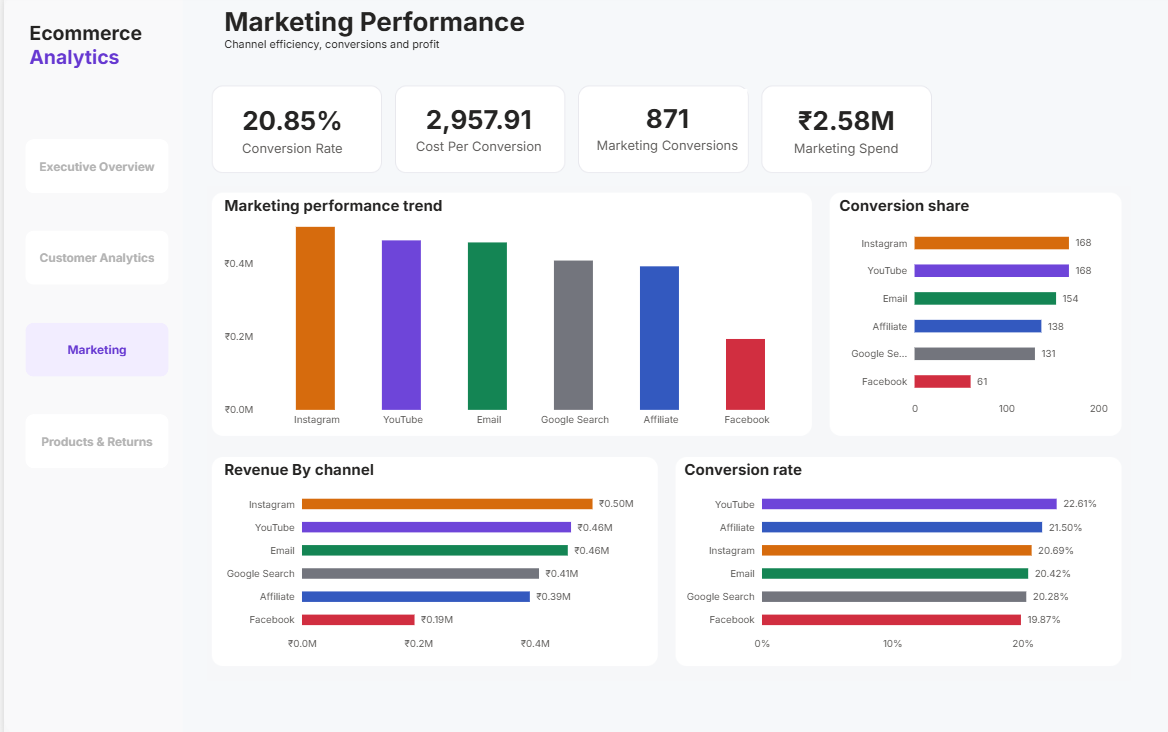

Layout of this report page (visuals, bound fields, positions):
{"tool":"powerbi","page":{"name":"Marketing ","canvas":[1440,920],"ordinal":2},"visuals":[{"type":"pageNavigator","box":[25.9,178.2,177.5,407.5],"z":0},{"type":"textbox","box":[25.9,30,177.5,109.6],"z":1000},{"type":"textbox","box":[266,9.3,566,106],"z":2000},{"type":"card","fields":{"Values":["marketing.Conversion Rate"]},"box":[266.7,120,178.3,91.7],"z":3000},{"type":"card","fields":{"Values":["marketing.Cost Per Conversion"]},"box":[496.7,118.3,178.3,91.7],"z":4000},{"type":"card","fields":{"Values":["marketing.Marketing Conversions"]},"box":[720,116.7,196.7,91.7],"z":5000},{"type":"card","fields":{"Values":["marketing.Marketing Spend"]},"box":[950,120,178.3,91.7],"z":6000},{"type":"columnChart","title":"Marketing performance trend","fields":{"Y":["marketing.Marketing Spend"],"Category":["marketing.Channel"]},"box":[266.7,250,723.3,293.3],"z":7000},{"type":"barChart","title":"Conversion share","fields":{"Category":["marketing.Channel"],"Y":["marketing.Marketing Conversions"]},"box":[1025,250,341.7,280],"z":8000},{"type":"barChart","title":"Conversion rate","fields":{"Category":["marketing.Channel"],"Y":["marketing.Conversion Rate"]},"box":[833.3,575,533.3,245],"z":9000},{"type":"barChart","title":"Revenue By channel","fields":{"Category":["marketing.Channel"],"Y":["marketing.Marketing Spend"]},"box":[266.7,575,533.3,245],"z":10000}]}

Visuals, with their boxes on the page's 1440x920 design canvas (x1, y1, x2, y2). These are canvas units, not pixel positions in the 1168x732 screenshot, which may show the page scaled, cropped or inside an application window:
pageNavigator: (x1=26, y1=178, x2=203, y2=586)
textbox: (x1=26, y1=30, x2=203, y2=140)
textbox: (x1=266, y1=9, x2=832, y2=115)
card - marketing.Conversion Rate: (x1=267, y1=120, x2=445, y2=212)
card - marketing.Cost Per Conversion: (x1=497, y1=118, x2=675, y2=210)
card - marketing.Marketing Conversions: (x1=720, y1=117, x2=917, y2=208)
card - marketing.Marketing Spend: (x1=950, y1=120, x2=1128, y2=212)
"Marketing performance trend" columnChart: (x1=267, y1=250, x2=990, y2=543)
"Conversion share" barChart: (x1=1025, y1=250, x2=1367, y2=530)
"Conversion rate" barChart: (x1=833, y1=575, x2=1367, y2=820)
"Revenue By channel" barChart: (x1=267, y1=575, x2=800, y2=820)
